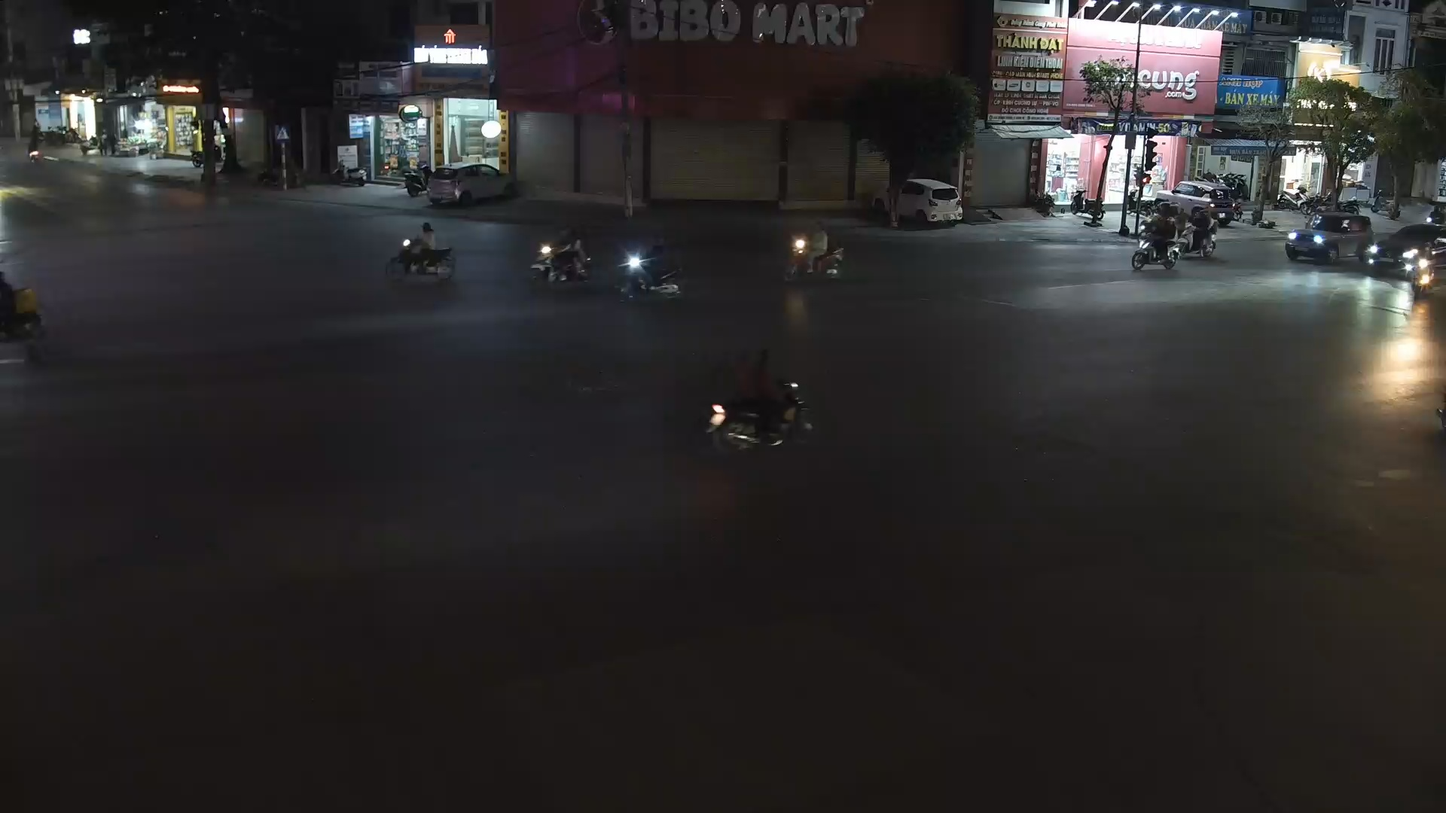car: (1284, 208, 1376, 270)
motorbike: (704, 344, 815, 457), (384, 218, 460, 290), (0, 248, 47, 350), (616, 238, 686, 303), (527, 223, 593, 290), (1129, 211, 1181, 274), (785, 231, 846, 282)
